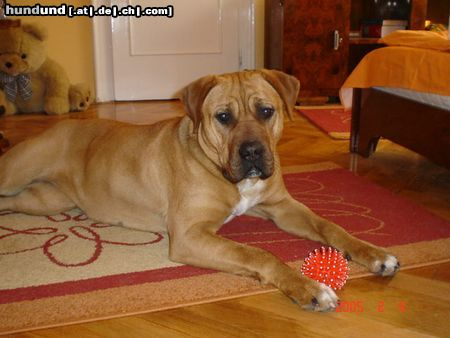tosa_inu: (0, 67, 400, 314)
